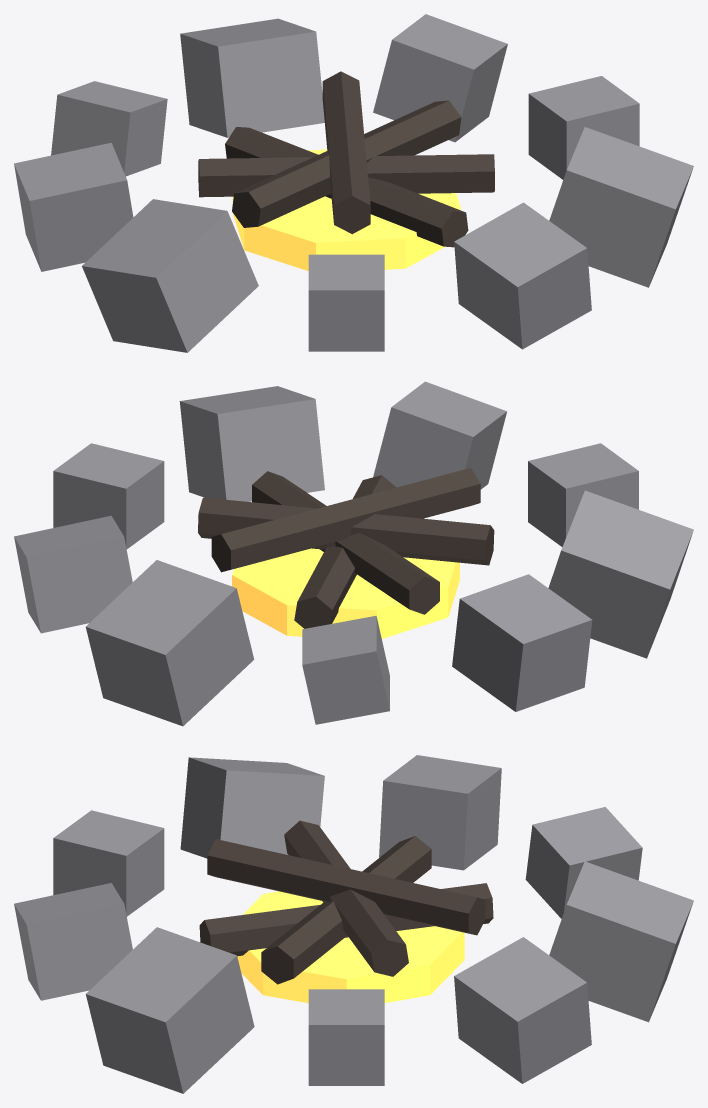
Rendered from campfire.glb.
3 renders of one model, top to bottom at view 1: azimuth 30°, elevation 25°; view 2: azimuth 150°, elevation 25°; view 3: azimuth 270°, elevation 25°, orthographic.
Parts seen in each view (by area): view 1: Campfire; view 2: Campfire; view 3: Campfire.
Part boxes in pixels (left/top/right/bottom): Campfire: left=14, top=14, right=693, bottom=352; Campfire: left=14, top=381, right=693, bottom=726; Campfire: left=14, top=755, right=693, bottom=1093.
Bounding box in the file's own units: 1.56 × 0.3342 × 1.61.
